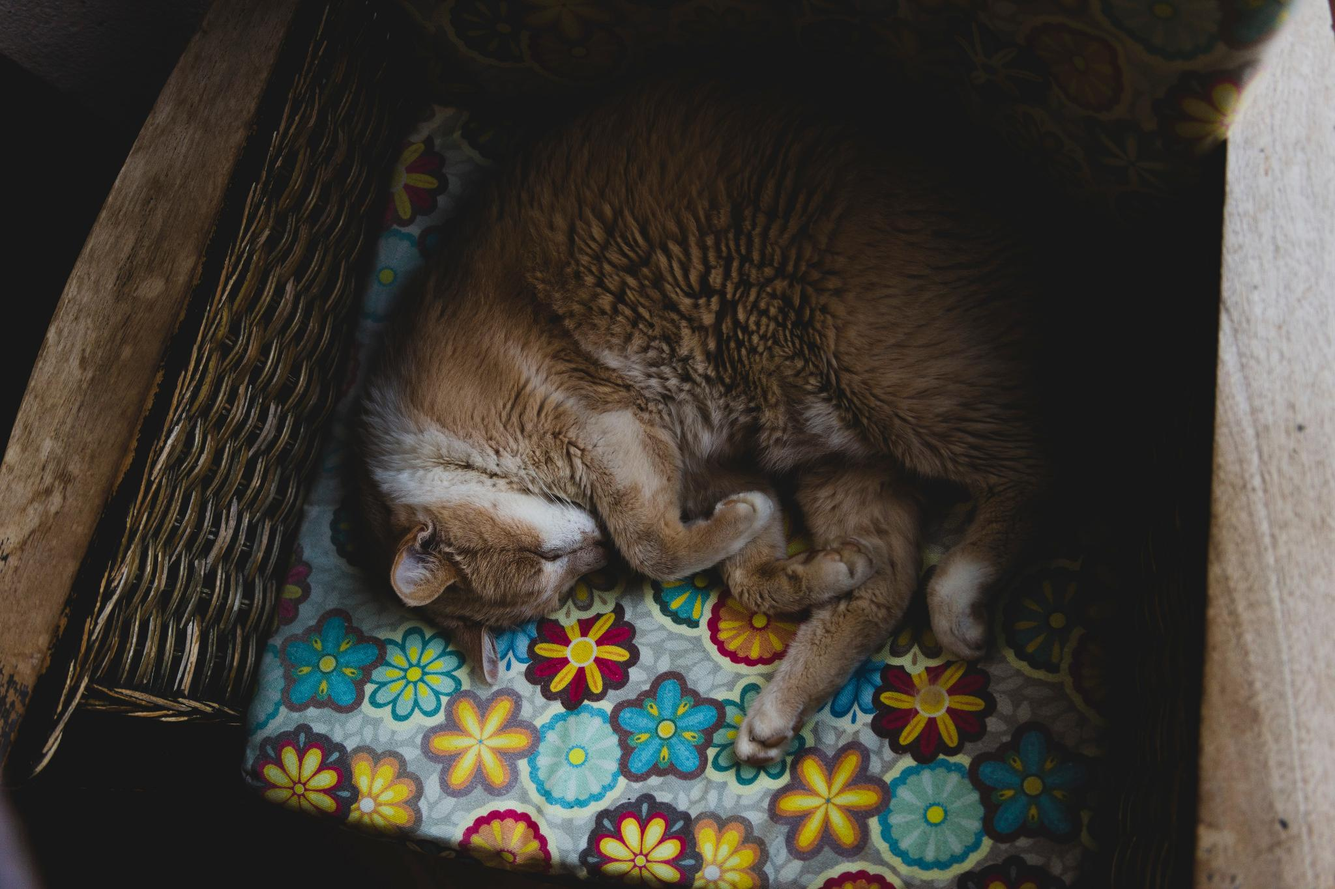cat: (346, 66, 1060, 767)
